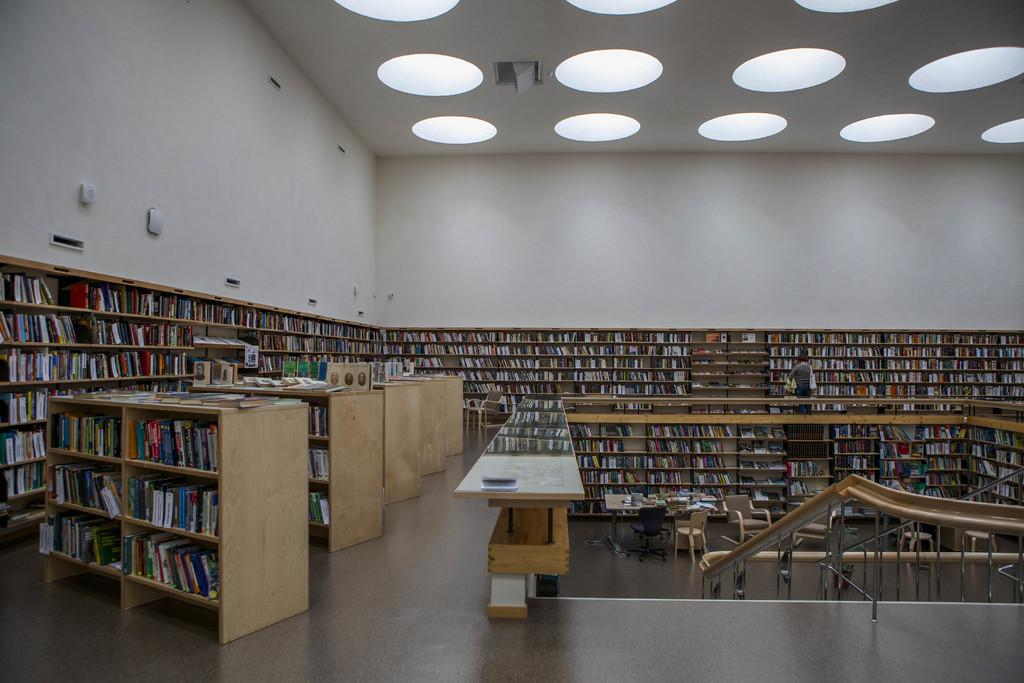Book: (0, 265, 381, 340), (377, 331, 692, 415), (771, 329, 1023, 411), (68, 361, 456, 411), (829, 431, 1023, 523), (563, 424, 737, 522), (1, 310, 382, 353), (0, 344, 187, 383), (0, 386, 187, 425), (689, 331, 771, 415), (125, 533, 218, 603), (126, 473, 220, 537), (42, 513, 124, 572), (126, 419, 220, 470), (739, 423, 786, 518), (47, 465, 122, 514), (42, 418, 122, 460), (785, 456, 832, 509), (257, 355, 378, 373), (1, 424, 46, 466), (0, 460, 44, 499), (0, 494, 49, 528), (186, 350, 246, 369), (479, 474, 517, 490)
